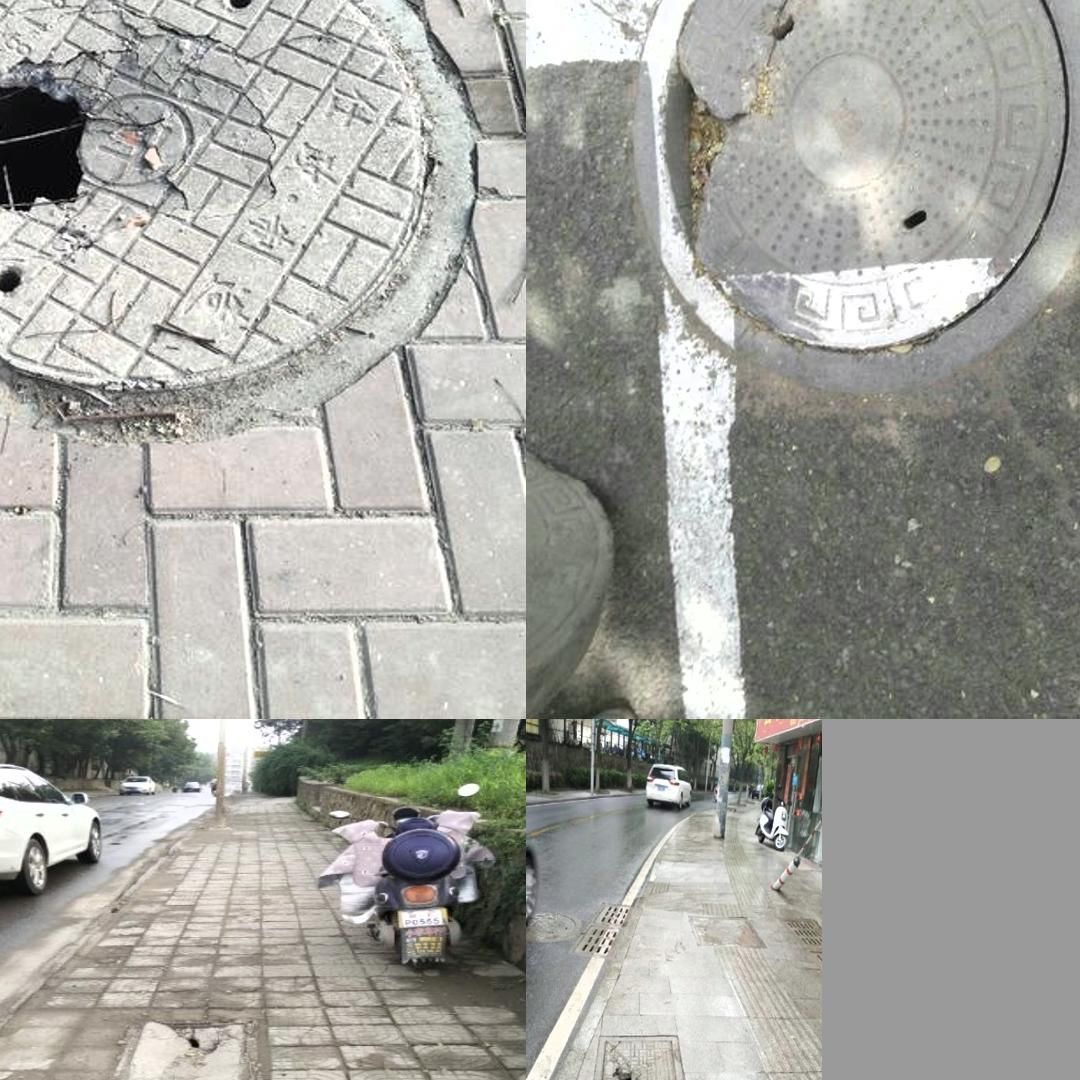broke: (0, 0, 488, 446), (620, 0, 1080, 387), (114, 1017, 266, 1080), (588, 1034, 691, 1080)
